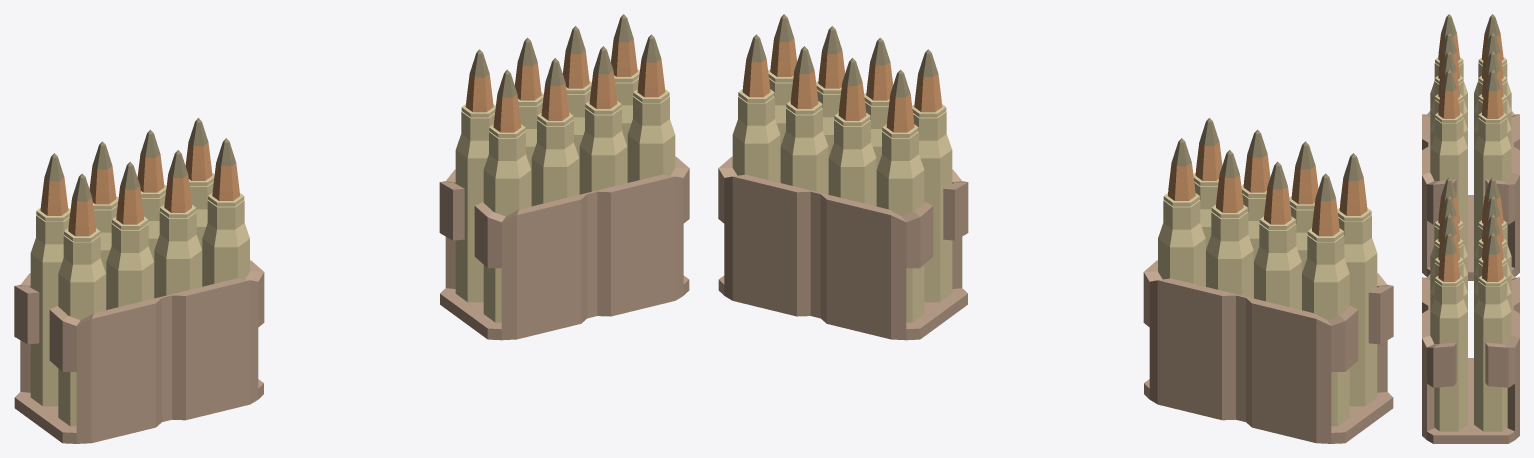
The model's file is ammo_01.fbx.
3 views of the same model, side by side, from view 1: azimuth 30°, elevation 25°; view 2: azimuth 150°, elevation 25°; view 3: azimuth 270°, elevation 25° (orthographic). The views are drawn at different scales.
Parts seen in each view (by area): view 1: ammo, Plane.001, ammo.011, ammo.012, ammo.015, ammo.014, ammo.013, ammo.009, ammo.010, ammo.008; view 2: ammo, Plane.001, ammo.012, ammo.011, ammo.008, ammo.009, ammo.010, ammo.014, ammo.015, ammo.013; view 3: ammo, Plane.001, ammo.015, ammo.008, ammo.013, ammo.010, ammo.011, ammo.014, ammo.012, ammo.009.
Part boxes in pixels (box(x1,y1,x2,y2)): ammo: box(439, 14, 689, 340); Plane.001: box(14, 260, 264, 443); ammo.011: box(30, 153, 70, 406); ammo.012: box(58, 173, 105, 426); ammo.015: box(202, 138, 249, 286); ammo.014: box(154, 150, 201, 298); ammo.013: box(106, 161, 153, 309); ammo.009: box(137, 129, 166, 298); ammo.010: box(89, 141, 118, 309); ammo.008: box(185, 118, 214, 286); ammo: box(718, 14, 968, 340); Plane.001: box(1143, 260, 1393, 443); ammo.012: box(1337, 153, 1377, 406); ammo.011: box(1302, 173, 1349, 426); ammo.008: box(1158, 138, 1205, 286); ammo.009: box(1206, 150, 1253, 298); ammo.010: box(1254, 161, 1301, 309); ammo.014: box(1241, 129, 1270, 298); ammo.015: box(1193, 118, 1222, 286); ammo.013: box(1289, 141, 1318, 309); ammo: box(1422, 177, 1519, 443); Plane.001: box(1422, 111, 1519, 280); ammo.015: box(1430, 69, 1467, 255); ammo.008: box(1474, 69, 1511, 255); ammo.013: box(1430, 32, 1467, 129); ammo.010: box(1474, 32, 1511, 129); ammo.011: box(1474, 14, 1511, 110); ammo.014: box(1430, 51, 1467, 147); ammo.012: box(1430, 14, 1467, 110); ammo.009: box(1474, 51, 1511, 147).
Bounding box in the file's own units: 188 × 73.13 × 32.3.
